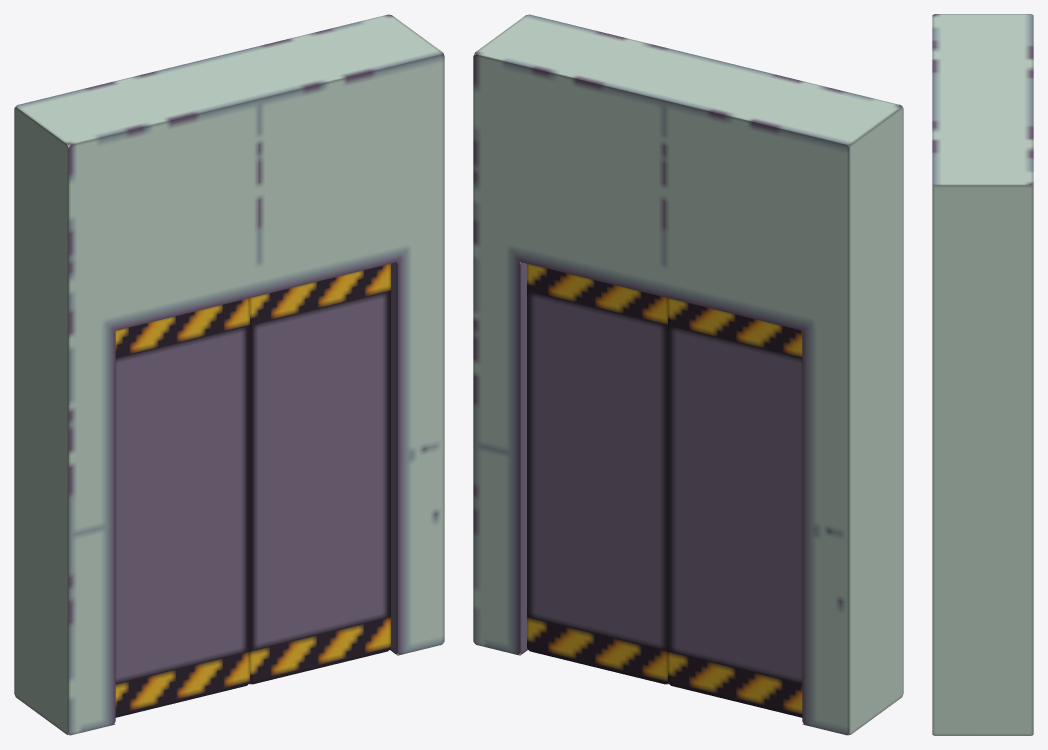
File: lab_door.fbx
The picture shows the model from 3 angles, left to right: view 1: azimuth 30°, elevation 25°; view 2: azimuth 150°, elevation 25°; view 3: azimuth 270°, elevation 25°; orthographic projection. The views are drawn at different scales.
Parts seen in each view (by area): view 1: frame, door_left, door_right; view 2: frame, door_left, door_right; view 3: frame.
Part boxes in pixels (box(x1,y1,x2,y2)): frame: box(14, 14, 444, 735); door_left: box(249, 263, 390, 684); door_right: box(115, 298, 249, 717); frame: box(473, 14, 903, 735); door_left: box(527, 263, 668, 684); door_right: box(668, 298, 802, 717); frame: box(932, 14, 1033, 735).
Bounding box in the file's own units: 200 × 300 × 50.
2 materials, 2 textured.
